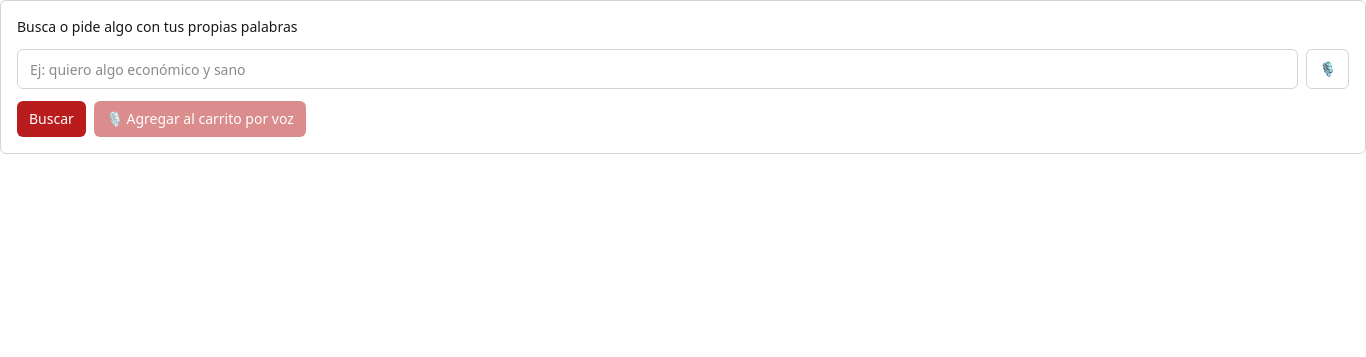
Scenario: BusquedaPorVoz · agregar por voz (HU-13) › muestra un mensaje si el reconocimiento falla, en vez de no hacer nada (sin feedback)
Type "quiero pizza" into the field labelled "Busca o pide algo con tus propias palabras" at x=658, y=69, box [17,49,1298,89]
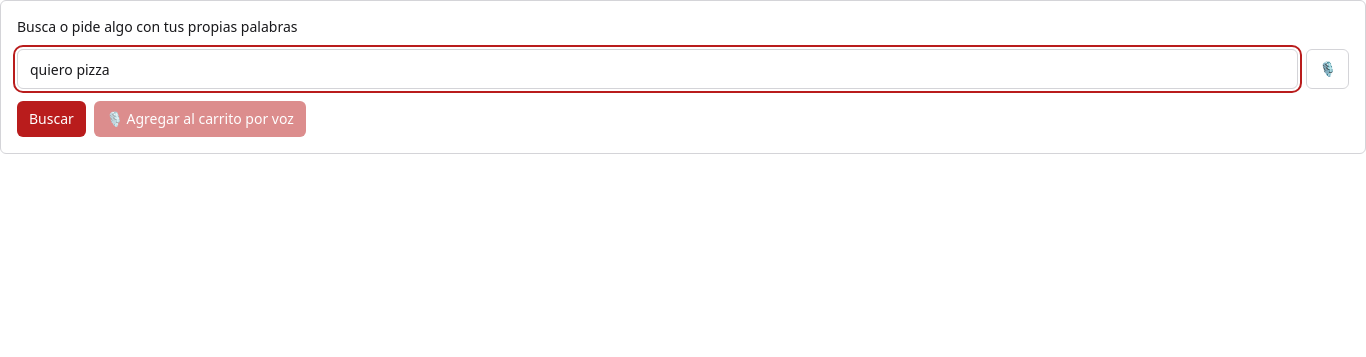
Click the button "Buscar" at x=51, y=119, box [17,101,86,137]
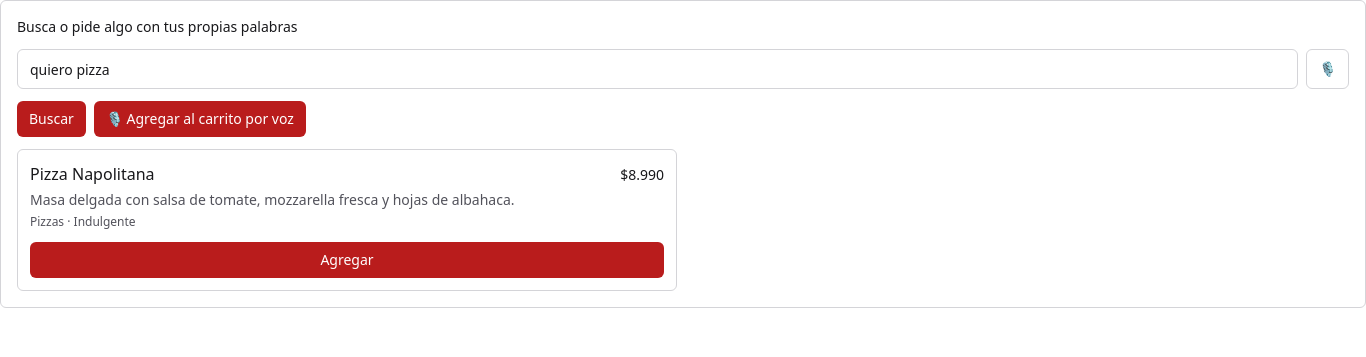
Now the text "Pizza Napolitana" is shown, box [30,162,154,186]
Click the button "🎙️ Agregar al carrito por voz" at x=200, y=119, box [94,101,306,137]
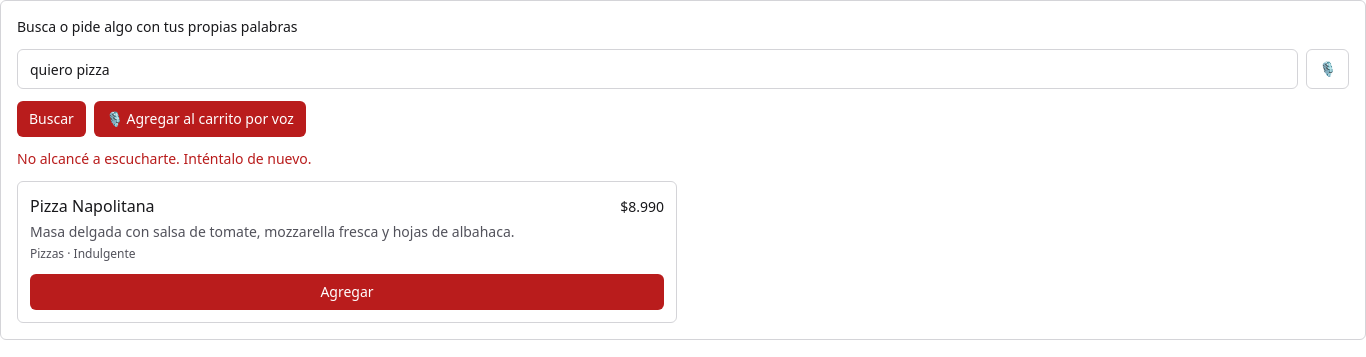
Now the button "🎙️ Agregar al carrito por voz" is enabled, box [94,101,306,137]
Now the message shows "No alcancé a escucharte", box [17,149,312,168]
